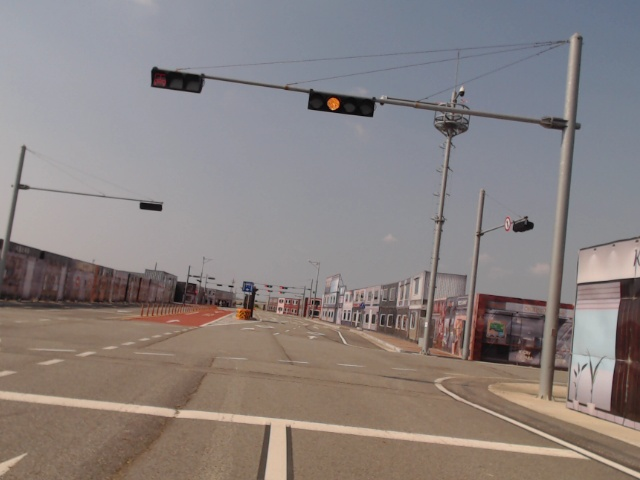orange_4: (308, 90, 376, 119)
